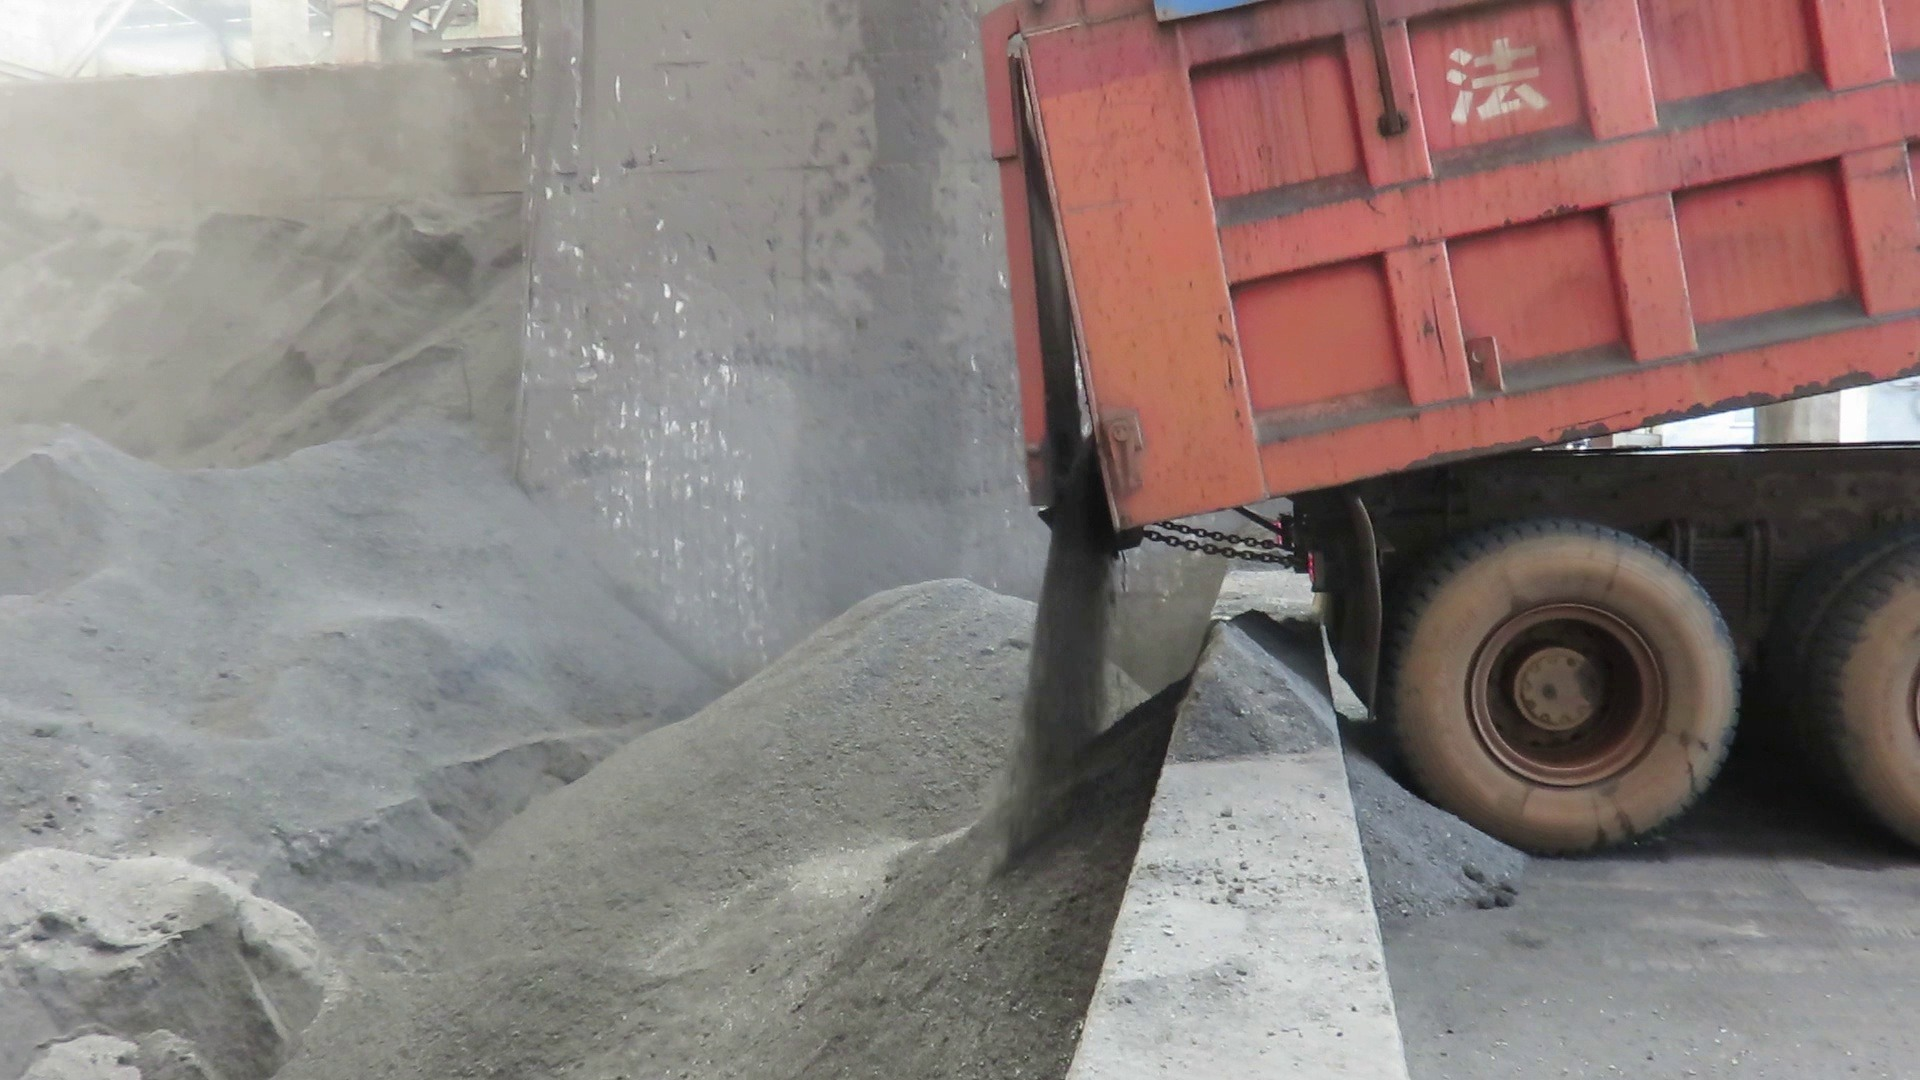dust: (11, 22, 993, 824)
truck: (945, 0, 1919, 905)
